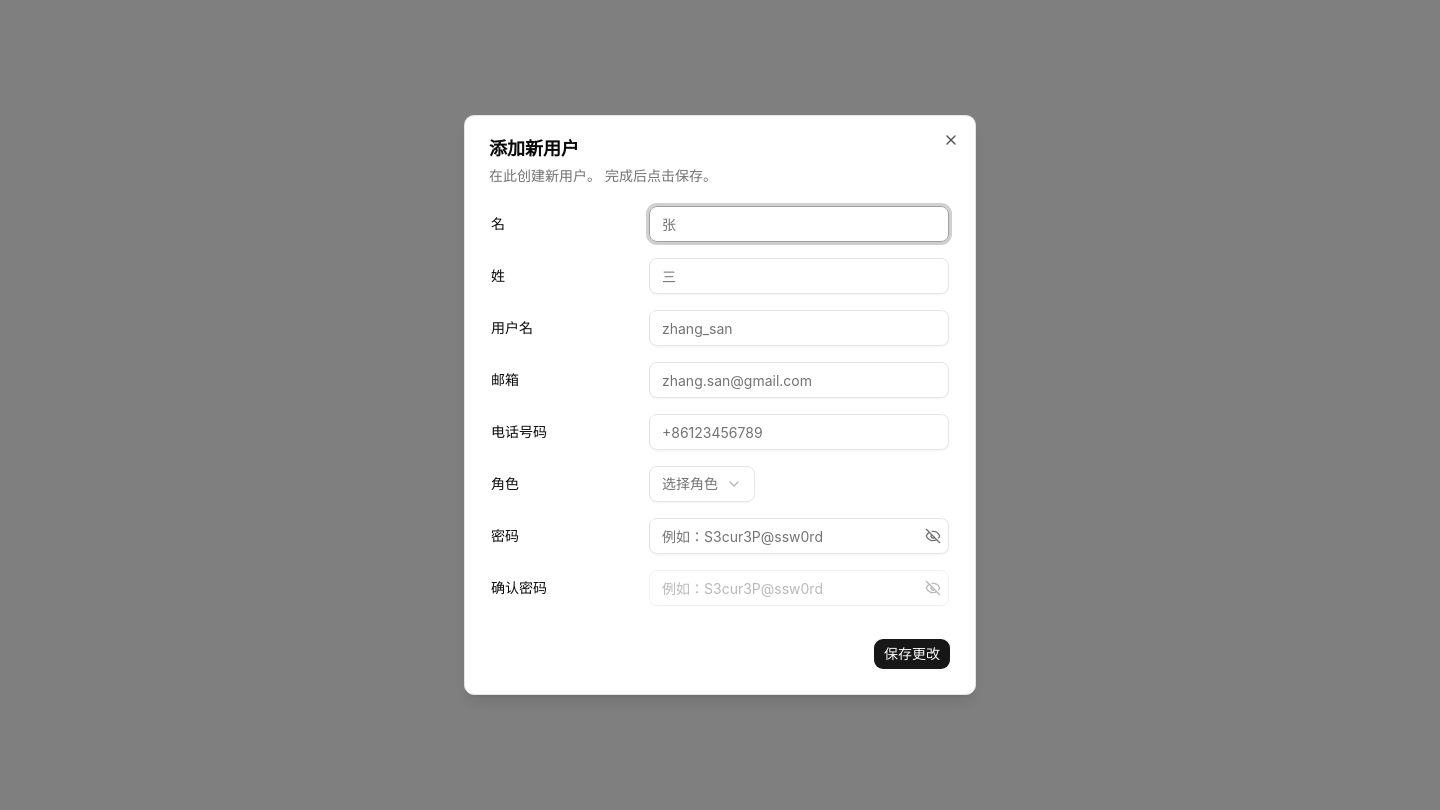
UsersActionDialog › add user › shows validation messages when the form is submitted with empty fields
Click the button "保存更改": (912, 654) [873, 638, 951, 670]
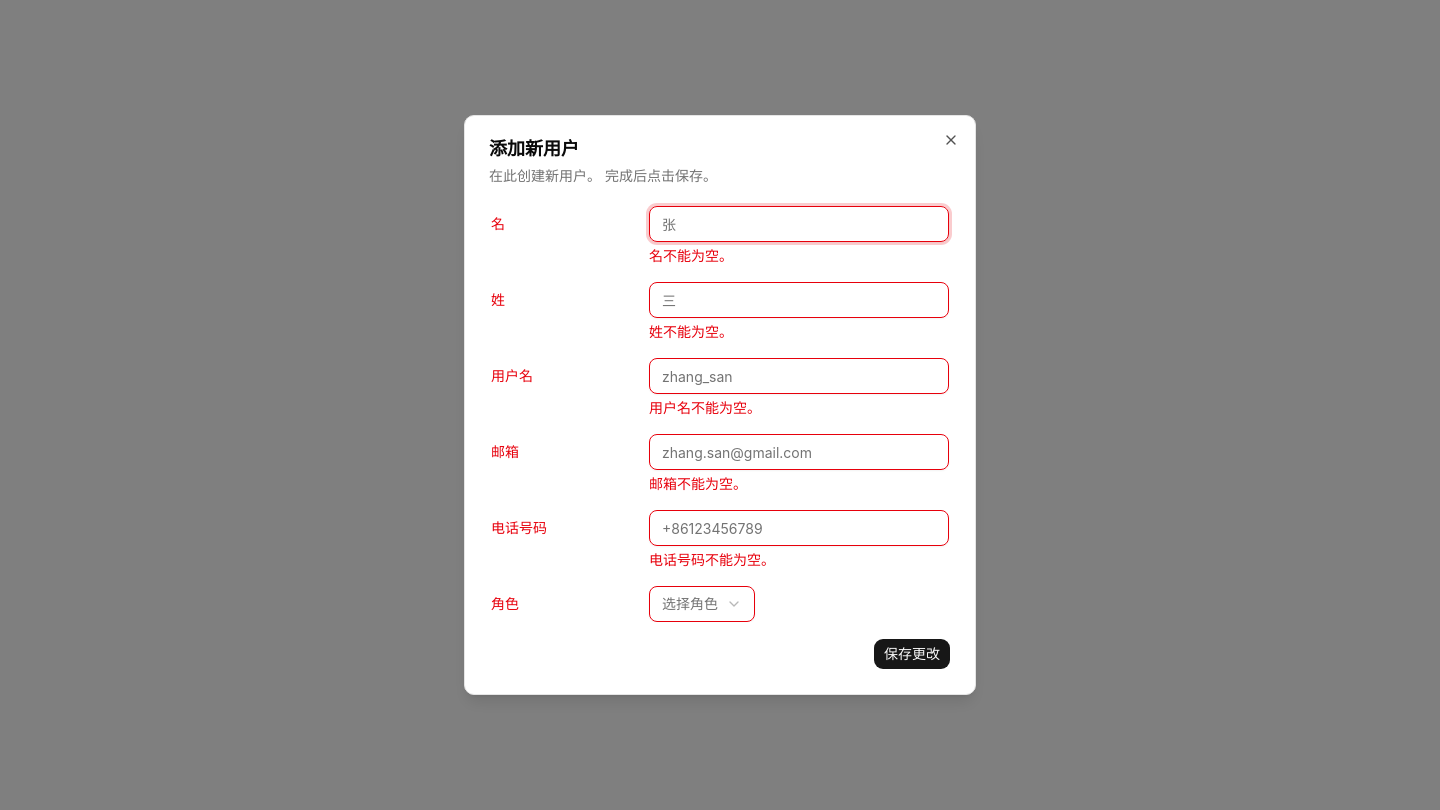
Now the text "名不能为空。" is shown, box [649, 247, 733, 264]
Now the text "姓不能为空。" is shown, box [649, 323, 733, 340]
Now the text "用户名不能为空。" is shown, box [649, 399, 761, 416]
